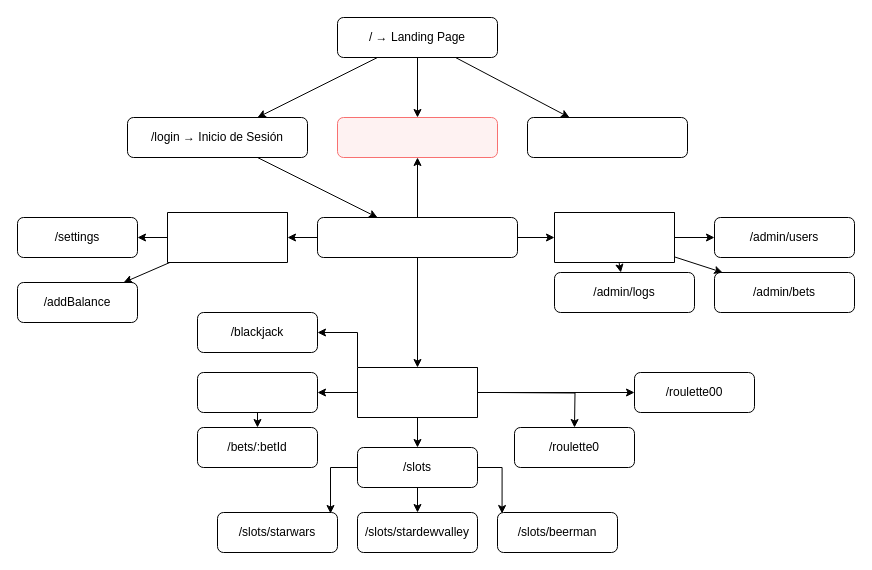
The diagram is 872 pixels wide and 570 high, and some of its shapes have lost their labels. Here are the shapes that lost their labels. From the top down, the centre of each, then its label:
point 417,137: /* → Error 404
point 607,137: /register → Registro
point 227,237: Usuario
point 417,237: /home → Lobby Principal
point 614,237: Admin
point 257,392: /bets
point 417,392: Juegos
